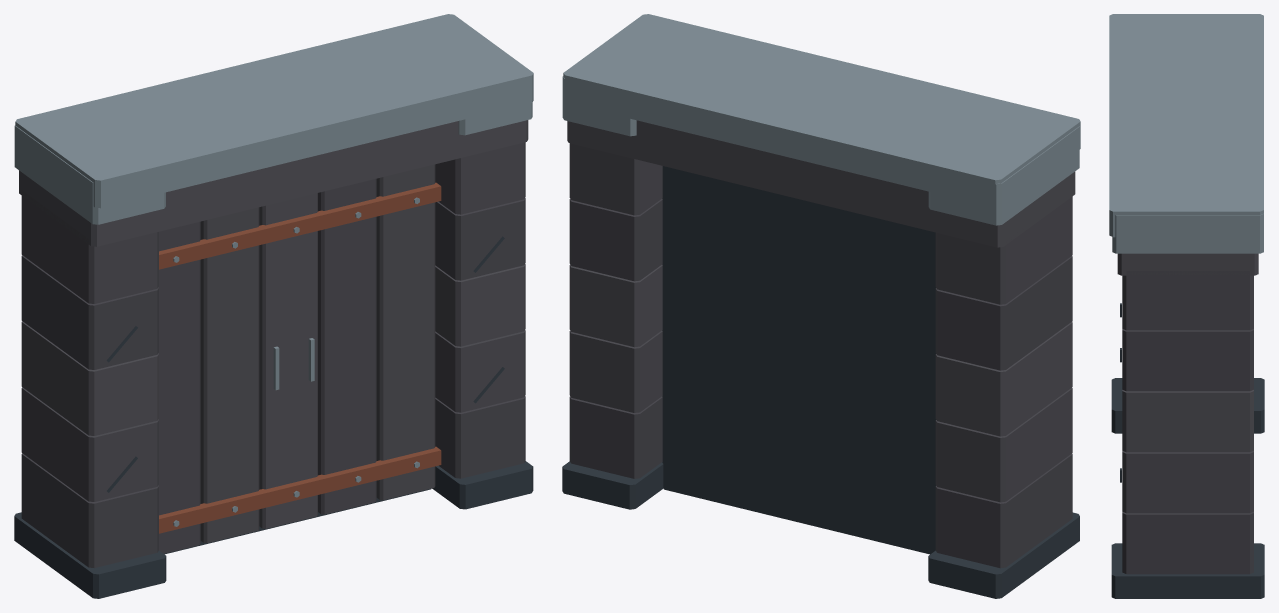
Rendered from boss_gate.glb.
3 views of the same model, side by side, from view 1: azimuth 30°, elevation 25°; view 2: azimuth 150°, elevation 25°; view 3: azimuth 270°, elevation 25° (orthographic). The views are drawn at different scales.
Visible parts, largest first — view 1: geometry, door; view 2: geometry, door; view 3: geometry.
Boxes of the visible parts, <box> form: geometry: <box>14,14,533,598</box>; door: <box>158,164,441,554</box>; geometry: <box>562,14,1080,598</box>; door: <box>662,166,936,554</box>; geometry: <box>1109,14,1264,598</box>.
Size of the model in its own units: 3 by 2.73 by 0.995.
